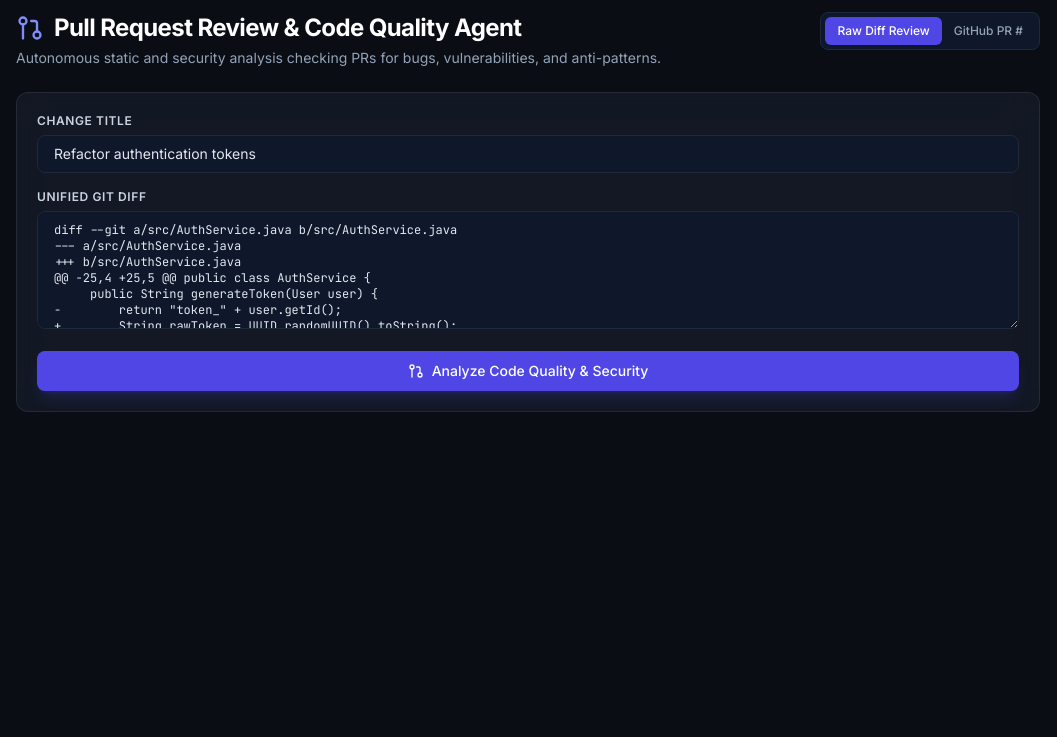
Test: PrReviewPage › submits diff for review and displays verdict and inline annotations
Check: the heading "Pull Request Review & Code Quality Agent" is shown, box [16,13,522,42]
Click the button "Analyze Code Quality & Security" at [528, 371], box [37,351,1019,391]
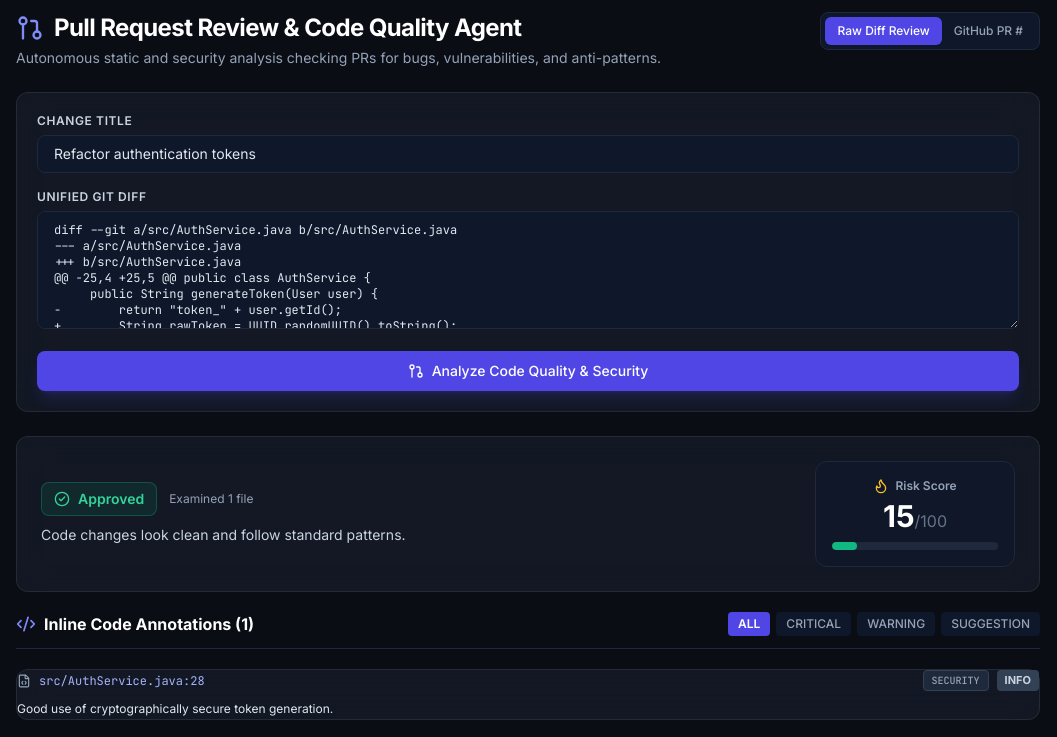
Check: the text "Approved" is shown, box [41,482,157,516]
Check: the text "15" is shown, box [883,498,915,534]
Check: the text "Good use of cryptographically secure token generation." is shown, box [17,701,333,716]
